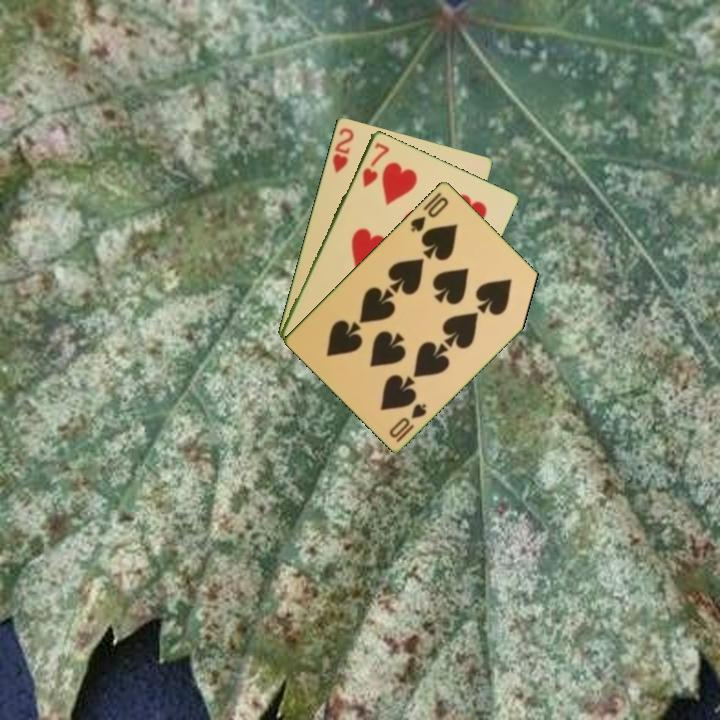10s: (386, 399, 429, 445), (407, 193, 451, 234)
2h: (328, 124, 356, 176)
7h: (359, 139, 392, 190)
